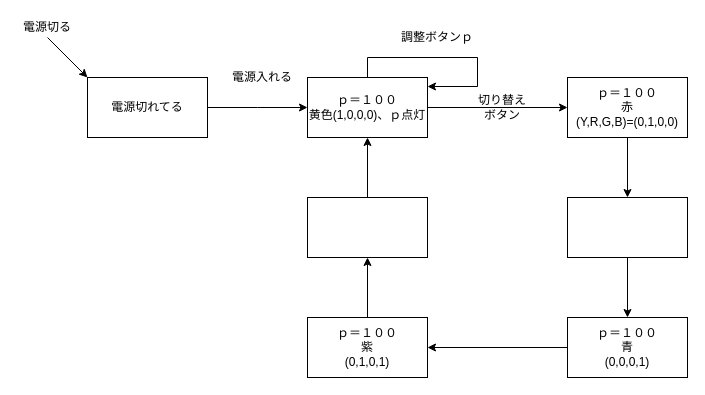
Some shapes in this 705 by 395 pixel diagram are drawn without their labels. Here are the shapes that lost their labels. From the top down, the box of each, then its label:
(306, 196, 428, 258): ｐ＝１００ (0,1,1,0)
(566, 196, 688, 258): ｐ＝１００ 緑 (0,0,1,0)
